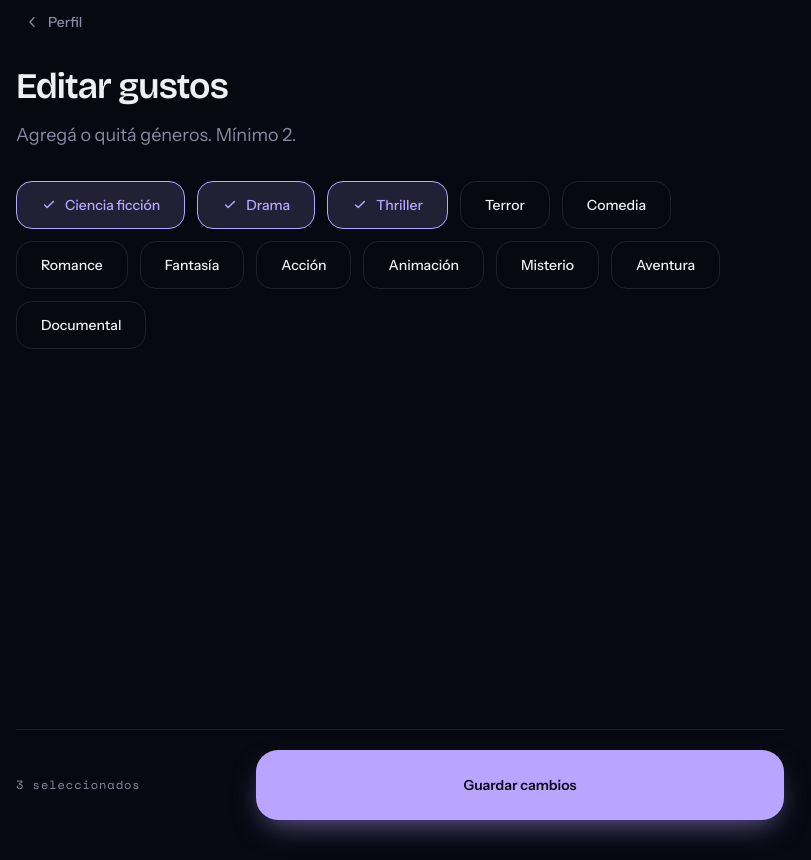
Test case: EditProfilePreferencesScreen › keeps the selection visible when session storage cannot save
This screenshot has width=811, height=860.
Click the button "Guardar cambios" at (520, 785), box [256,750,784,820]
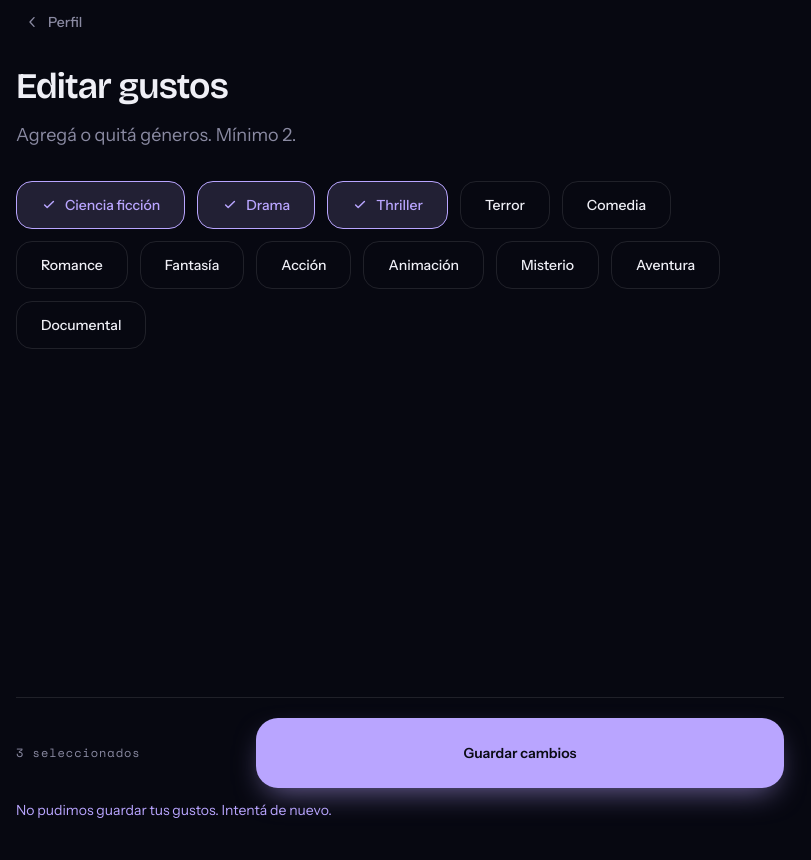
expect the text "No pudimos guardar tus gustos. Intentá de nuevo." is shown: met, box [16,801,332,819]
